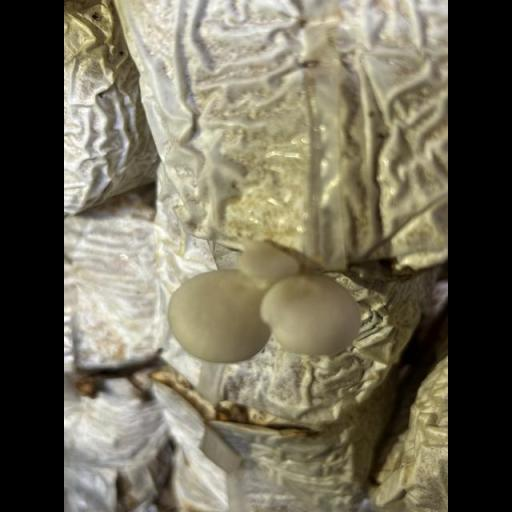White Oyster Mushroom: (169, 240, 360, 362)
